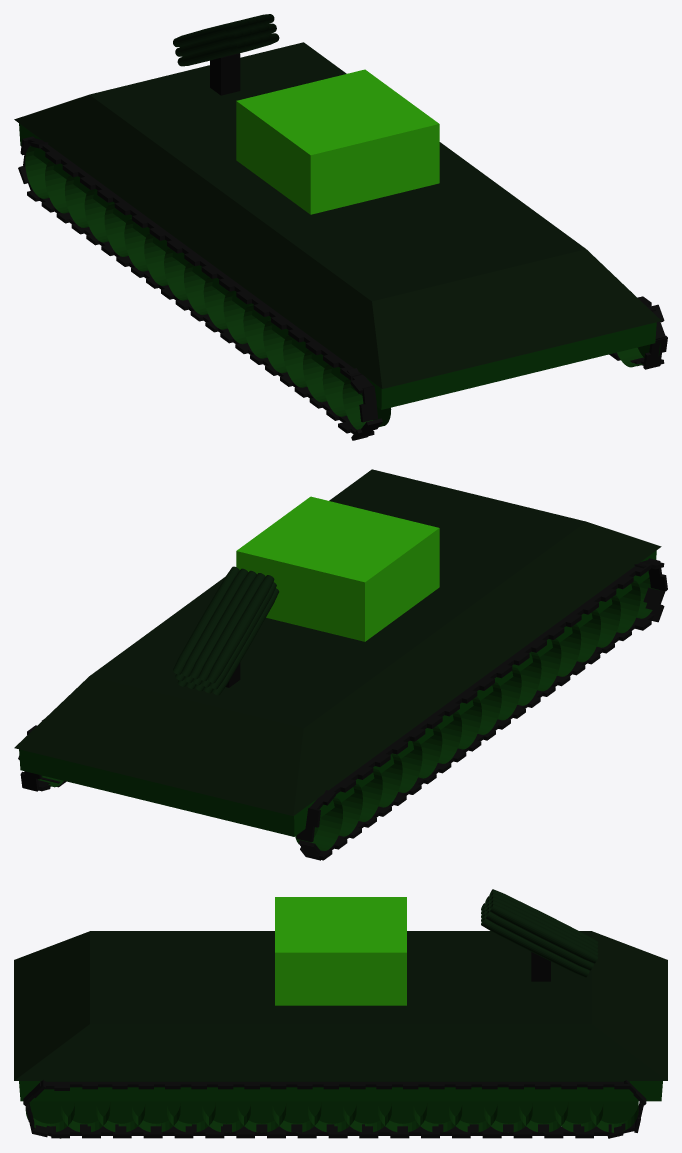
File: mtk.obj
3 views of the same model, one above another, from view 1: azimuth 30°, elevation 25°; view 2: azimuth 150°, elevation 25°; view 3: azimuth 270°, elevation 25° (orthographic). The views are drawn at different scales.
Parts seen in each view (by area): view 1: Cube, 立方体.004_立方体.024, 立方体_立方体.047, Cube.001, Torus.004_Torus.008, 立方体.000_立方体.046, 立方体.001_立方体.048; view 2: Cube, 立方体.004_立方体.024, 立方体_立方体.047, Cube.001, Torus.004_Torus.008, 立方体.000_立方体.046; view 3: Cube, 立方体.000_立方体.046, 立方体_立方体.047, Cube.001, Torus.004_Torus.008, 立方体.001_立方体.048.
Part boxes in pixels (bbox=[...]): Cube: bbox=[14, 42, 661, 388]; 立方体.004_立方体.024: bbox=[18, 136, 391, 440]; 立方体_立方体.047: bbox=[236, 69, 439, 214]; Cube.001: bbox=[19, 123, 656, 409]; Torus.004_Torus.008: bbox=[173, 14, 279, 66]; 立方体.000_立方体.046: bbox=[609, 296, 667, 369]; 立方体.001_立方体.048: bbox=[210, 53, 240, 95]; Cube: bbox=[14, 469, 661, 816]; 立方体.004_立方体.024: bbox=[295, 558, 667, 860]; 立方体_立方体.047: bbox=[236, 496, 439, 641]; Cube.001: bbox=[19, 550, 656, 836]; Torus.004_Torus.008: bbox=[173, 566, 279, 695]; 立方体.000_立方体.046: bbox=[18, 719, 66, 791]; Cube: bbox=[14, 931, 667, 1080]; 立方体.000_立方体.046: bbox=[23, 1080, 646, 1138]; 立方体_立方体.047: bbox=[275, 897, 406, 1005]; Cube.001: bbox=[19, 1081, 662, 1101]; Torus.004_Torus.008: bbox=[481, 889, 598, 977]; 立方体.001_立方体.048: bbox=[531, 952, 550, 981].
Size of the model in its own units: 7.12 by 4.45 by 14.85.
